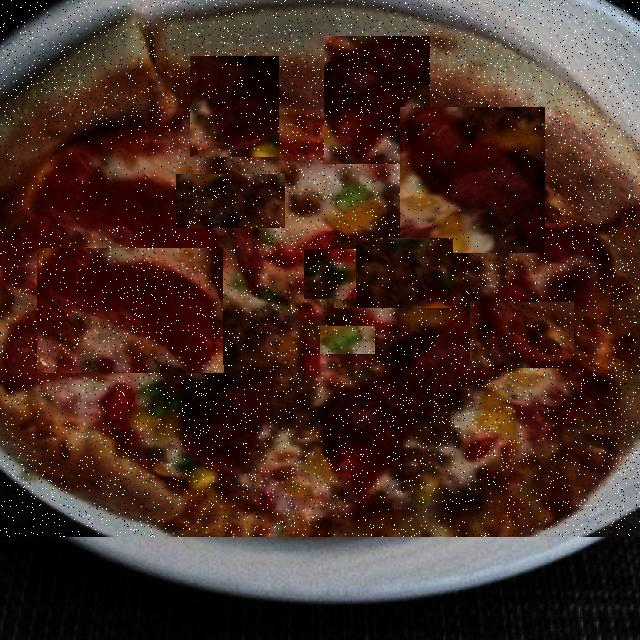Beef: (334, 238, 453, 308), (176, 174, 285, 228)
Green Pepper: (304, 249, 356, 299), (137, 110, 185, 156), (320, 326, 375, 354)
Ham: (37, 248, 224, 373), (400, 107, 545, 253), (0, 125, 171, 228), (324, 36, 430, 164), (190, 56, 279, 157), (218, 236, 258, 366)
Pizza: (0, 0, 640, 537)
Red Pepper: (470, 302, 574, 368)
